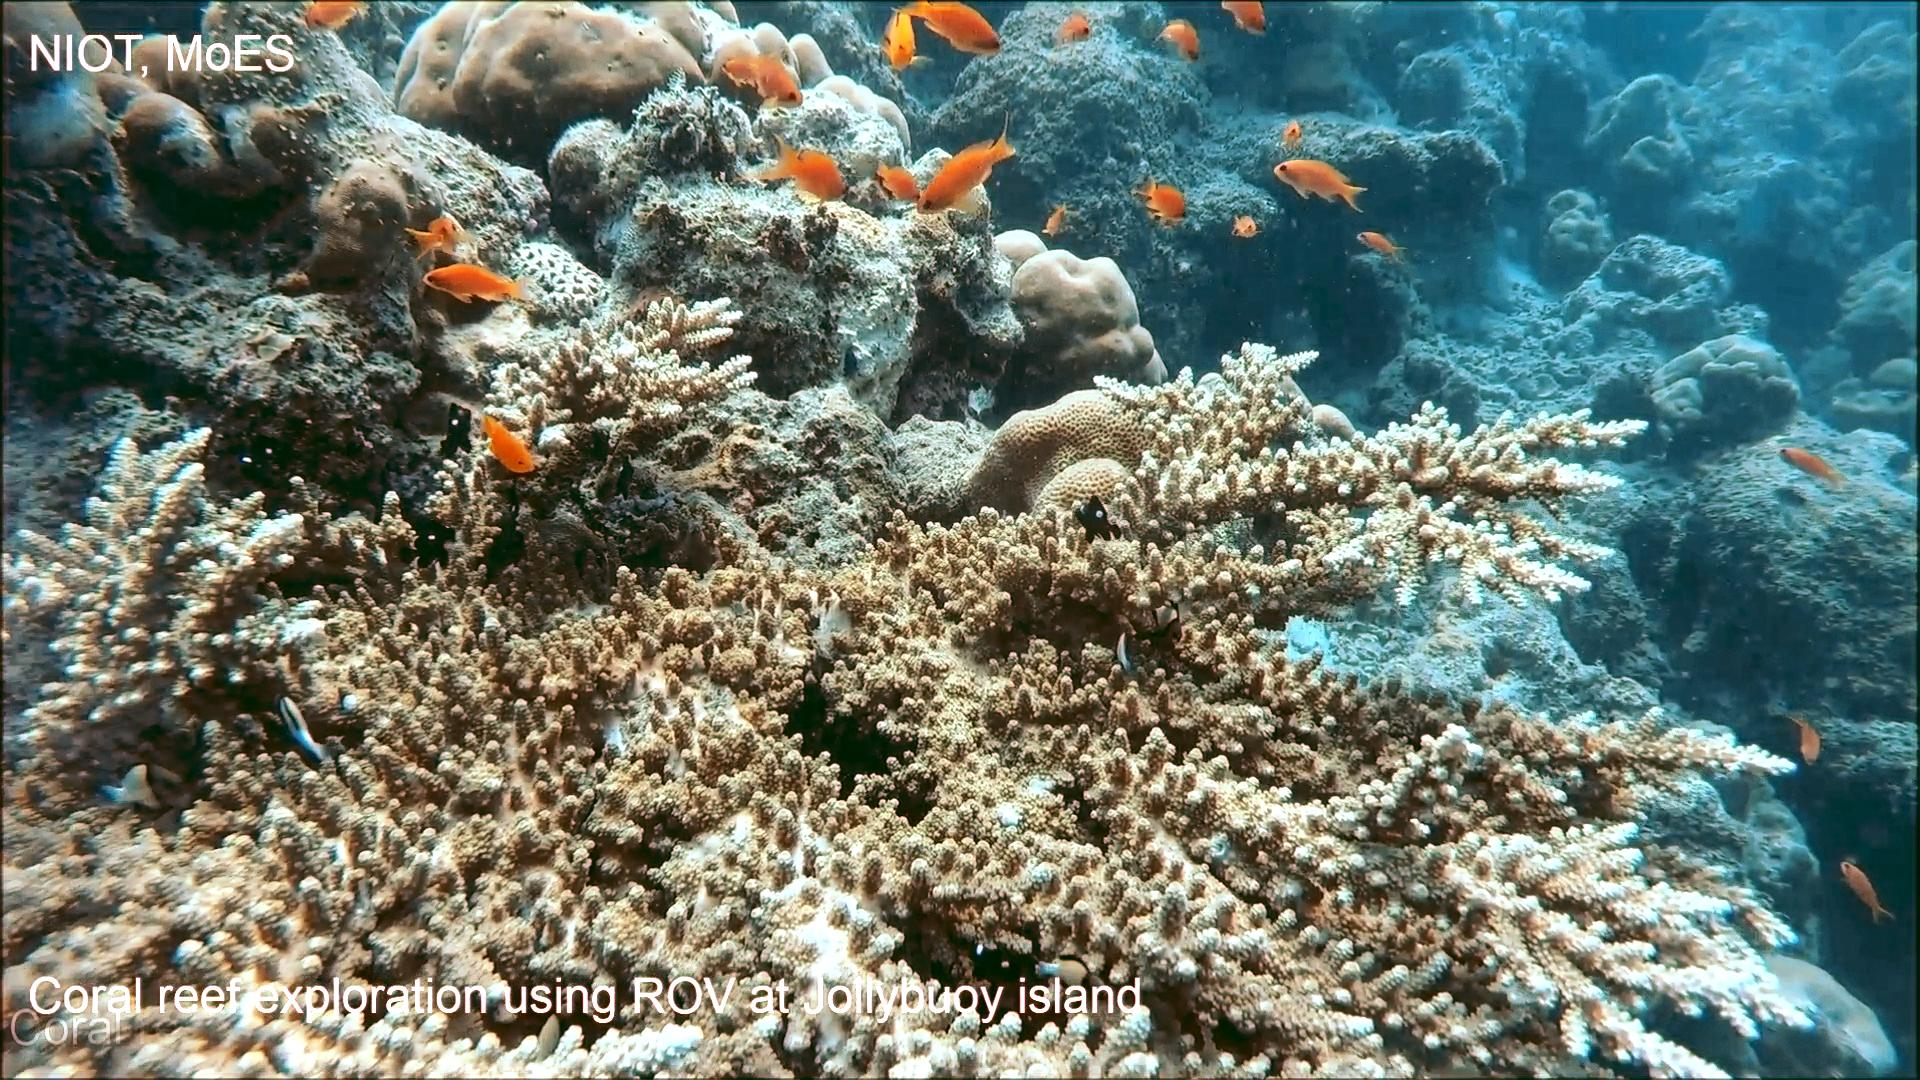Porites-Porites pukoensis: (382, 0, 761, 156), (0, 0, 86, 90)
